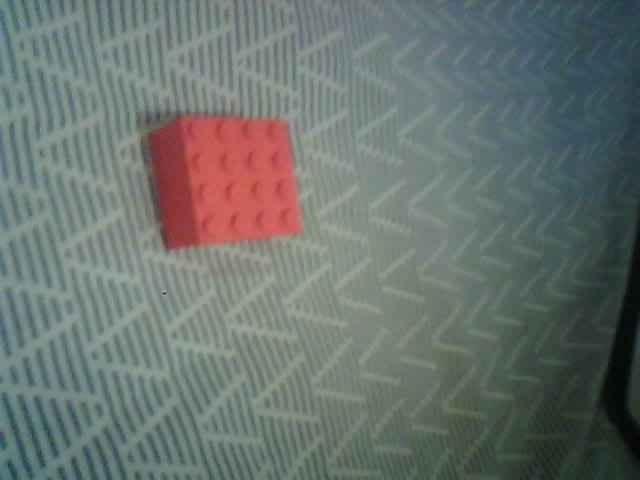lego: (146, 114, 304, 250)
